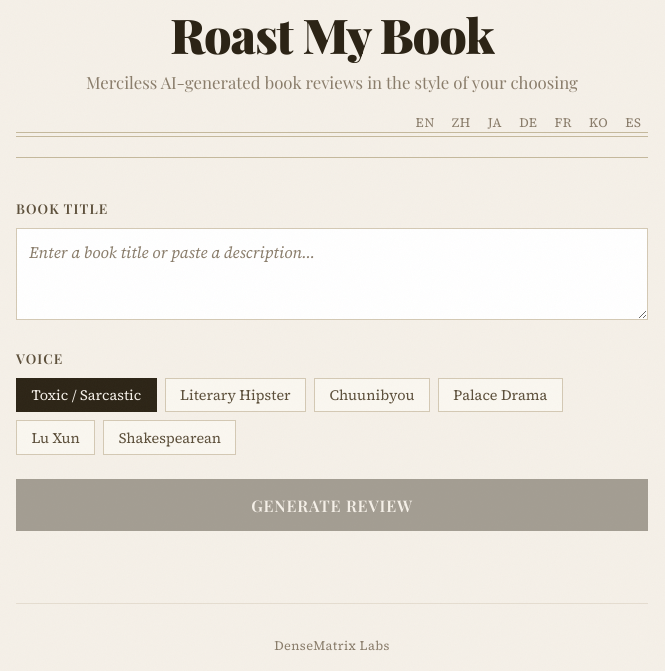
Scenario: App › shows error message on API failure
The image size is (665, 671).
Type "测试书籍" into the text box. click: (332, 274)
box: x1=16 y1=228 x2=648 y2=320
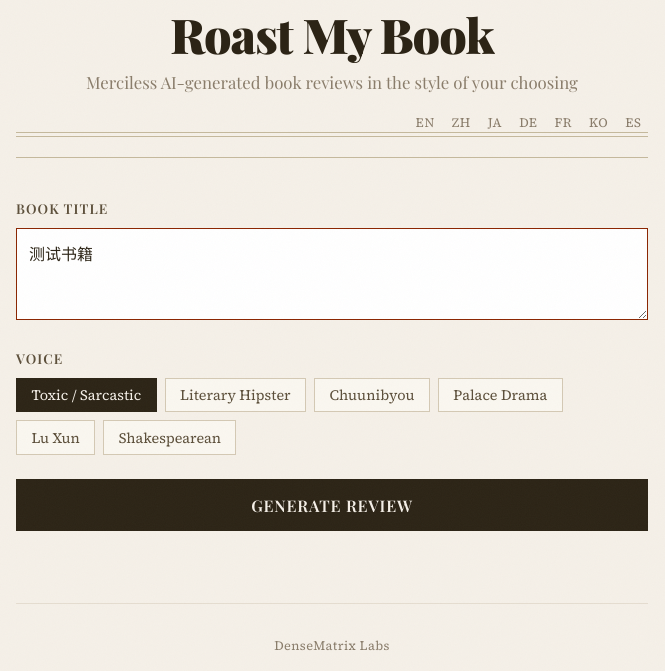
Click the button "Generate Review". click: (332, 505)
box: x1=16 y1=479 x2=648 y2=531
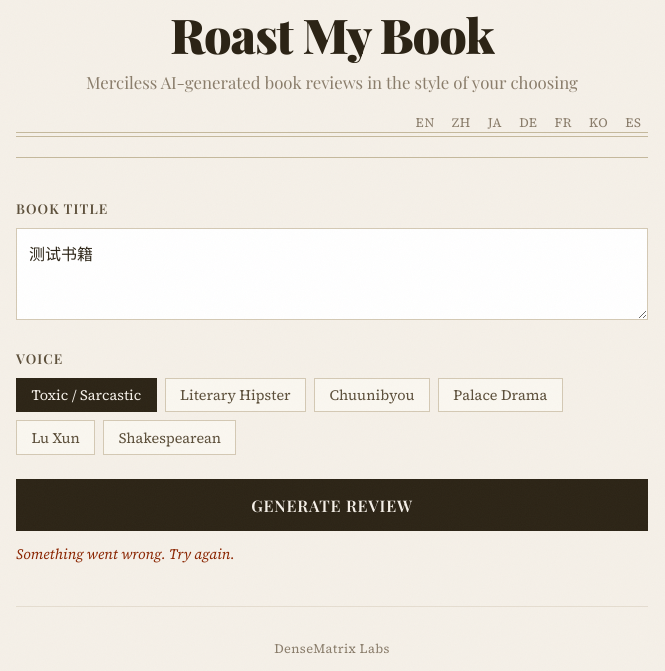
Expected: the text "Something went wrong. Try again." is shown, x1=16 y1=544 x2=235 y2=564
